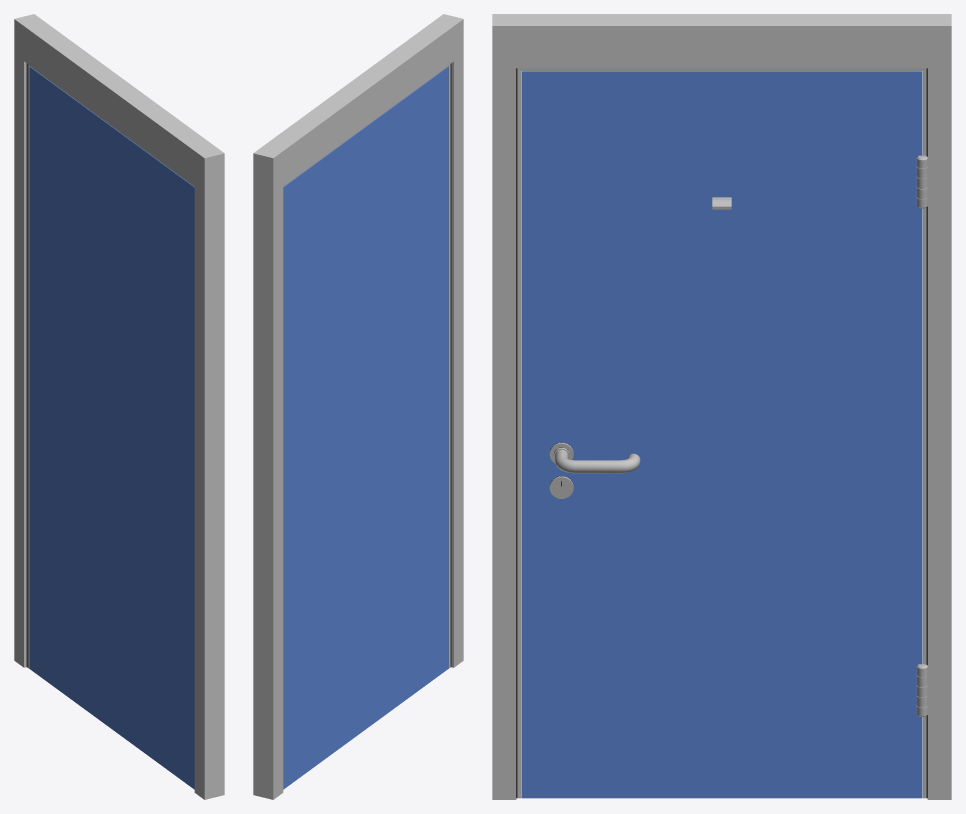
The model's file is door.glb.
3 views of the same model, side by side, from view 1: azimuth 30°, elevation 25°; view 2: azimuth 150°, elevation 25°; view 3: azimuth 270°, elevation 25° (orthographic). The views are drawn at different scales.
Visible parts, largest first — view 1: door, outer part of the door; view 2: door, outer part of the door; view 3: door, outer part of the door, handle.
Part boxes in pixels (x1=…): door: x1=29, y1=66, x2=194, y2=789; outer part of the door: x1=14, y1=14, x2=224, y2=799; door: x1=283, y1=66, x2=448, y2=789; outer part of the door: x1=253, y1=14, x2=463, y2=799; door: x1=521, y1=71, x2=927, y2=798; outer part of the door: x1=492, y1=14, x2=951, y2=799; handle: x1=549, y1=442, x2=640, y2=473.
Size of the model in its own units: 0.313 by 4.26 by 2.29.
